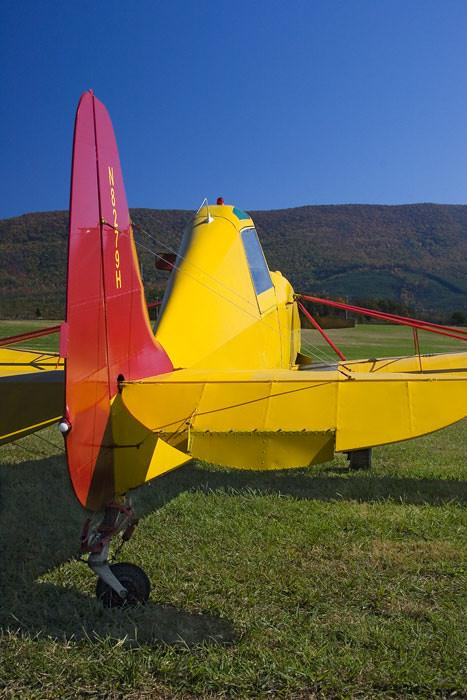plane: (1, 89, 467, 609)
